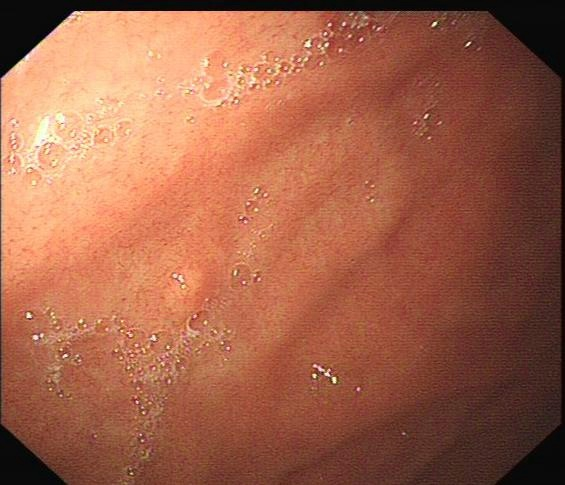Polyp: (145, 261, 231, 327)
